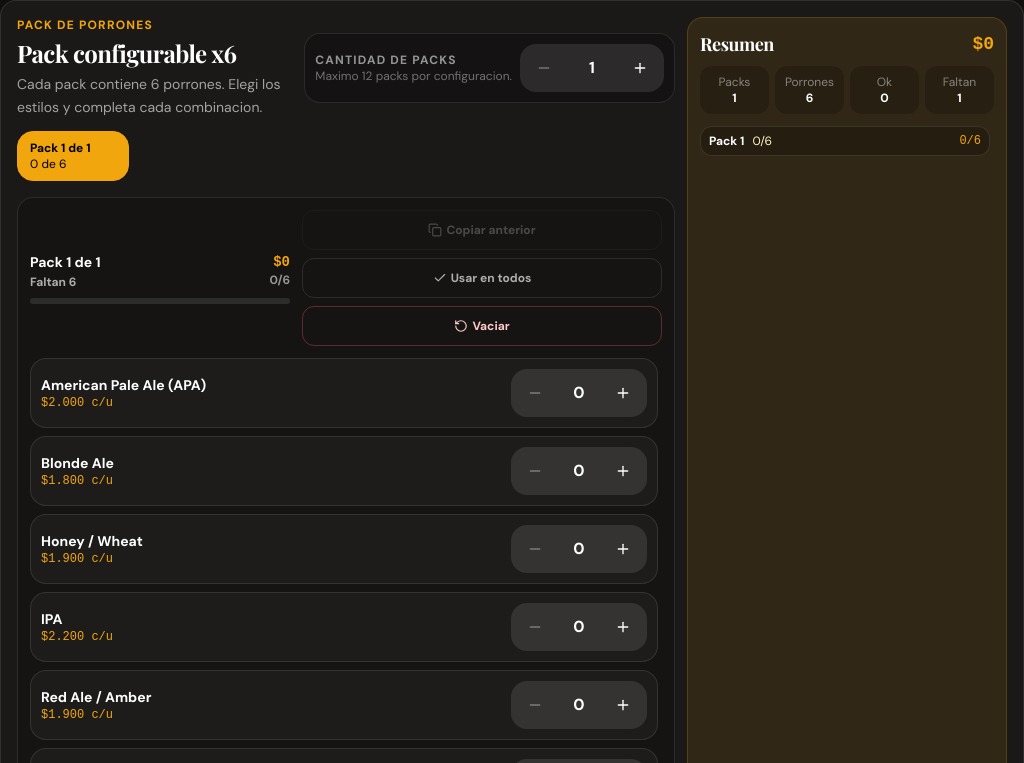
it: ConfigurableBeerPackBuilder › asks for confirmation before discarding a configured pack when reducing the pack count
Click the button named "Sumar cantidad de packs" at [640, 68], box [620,48,660,88]
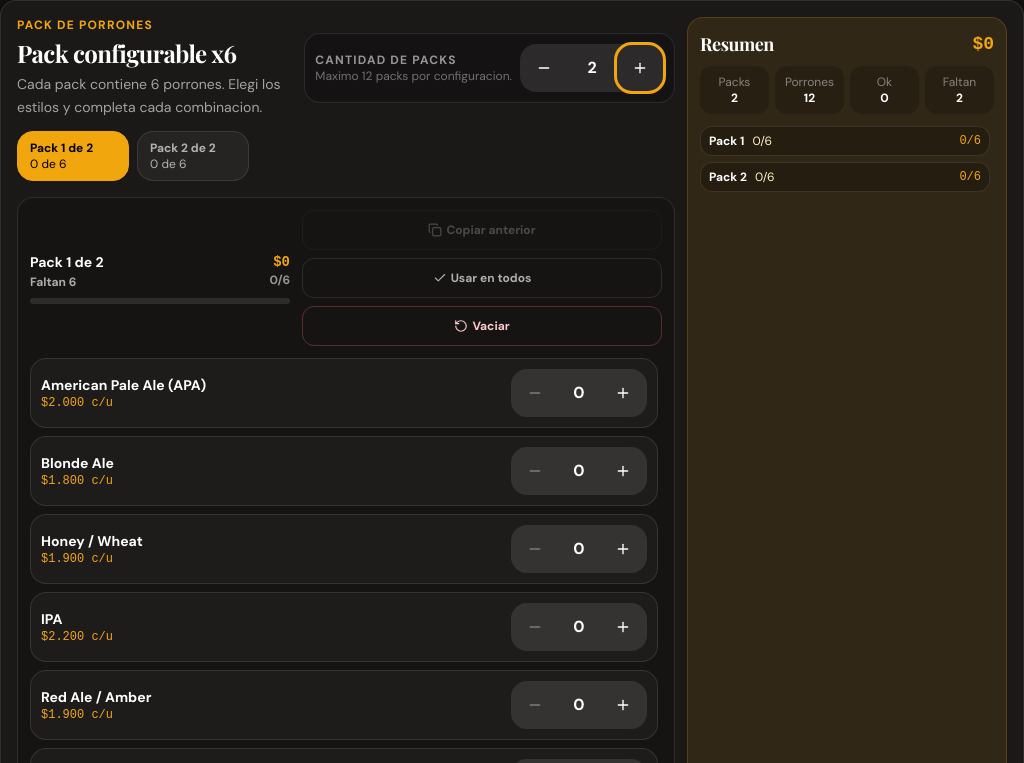
Click the tab "Pack 2 de 2 0 de 6" at [193, 156], box [137,130,249,180]
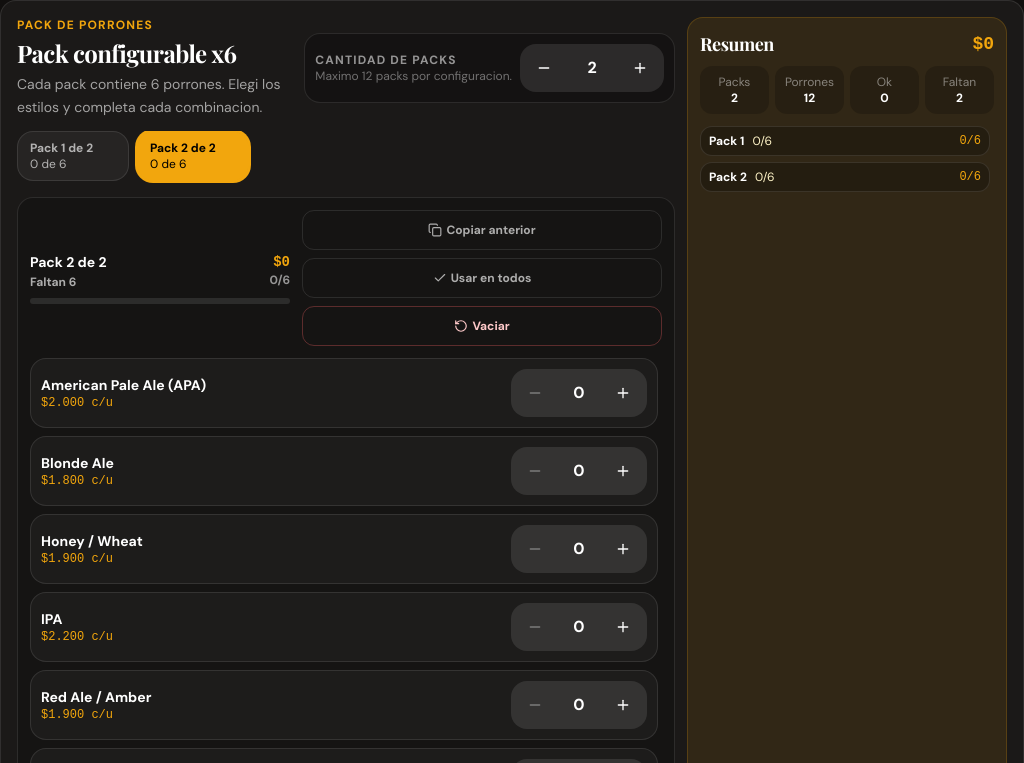
Click the button named "Sumar Blonde Ale al Pack 2" at [623, 470], box [603,450,643,490]
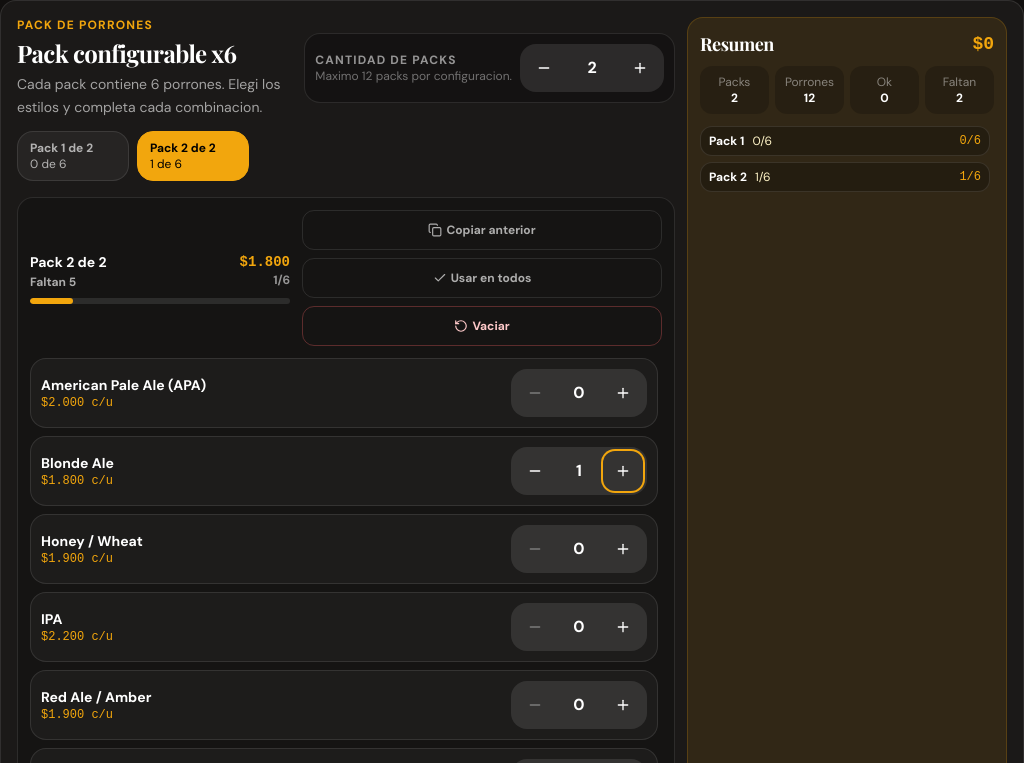
Click the button named "Restar cantidad de packs" at [544, 68], box [524,48,564,88]
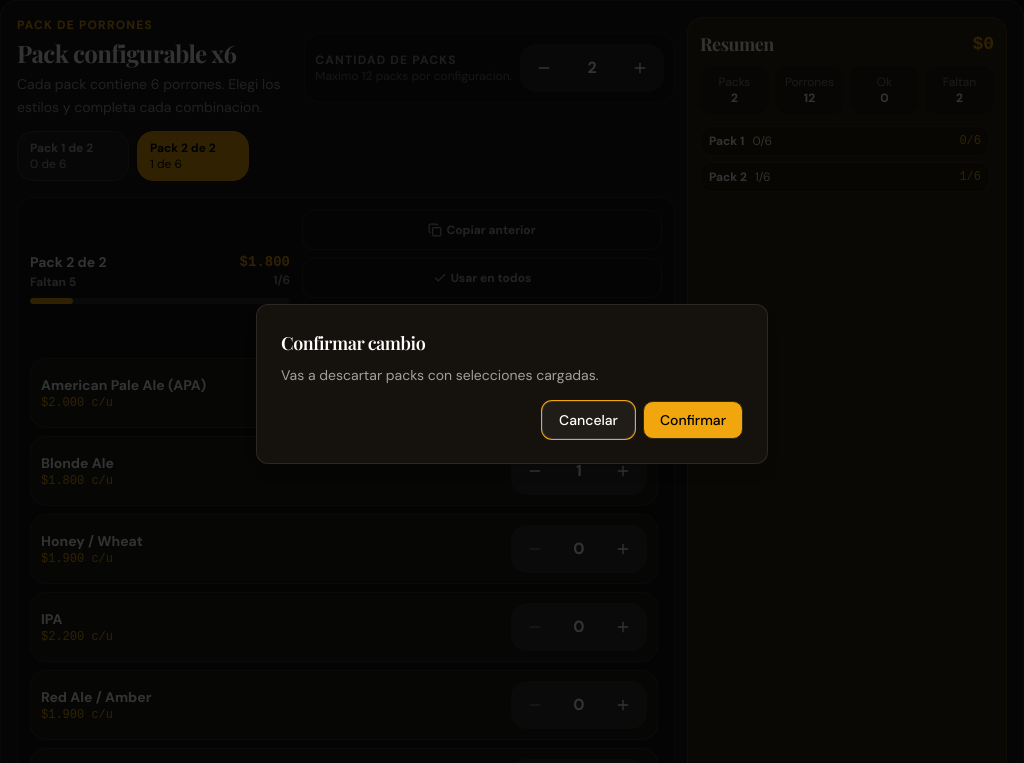
Result: the text "Vas a descartar packs con selecciones cargadas." is shown at [281,366,598,384]
Click the button "Confirmar" at [693, 420], box [643,401,743,439]
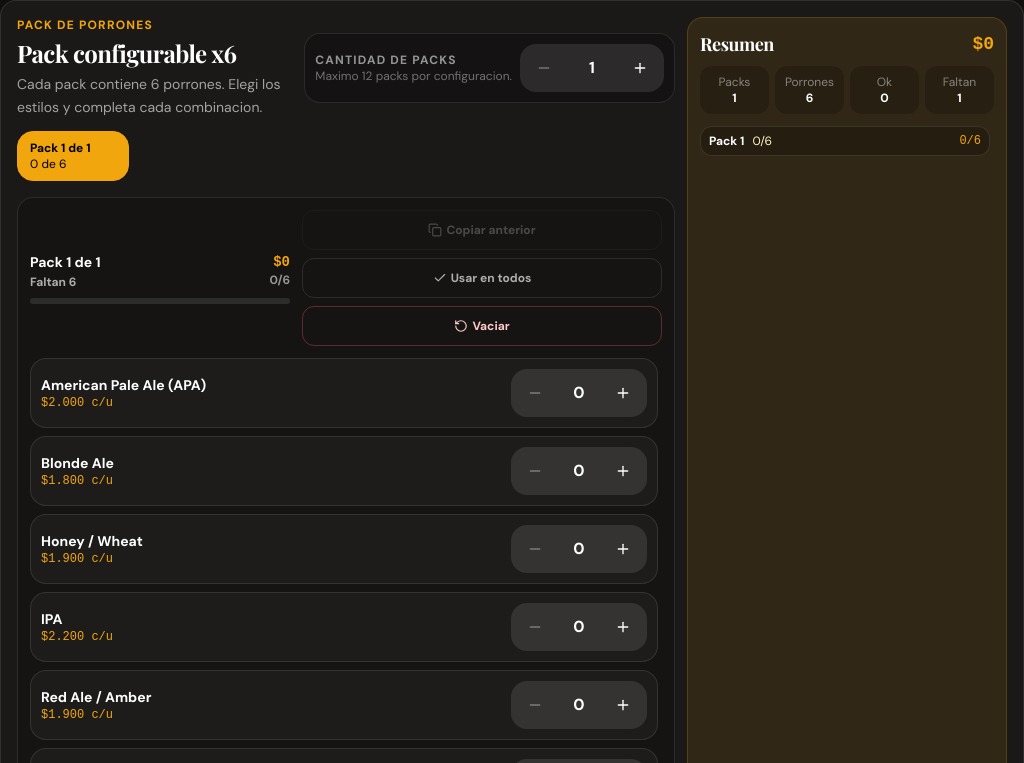
Result: the dialog is gone
Result: the number of tabs is 1 at [17,130,129,180]
